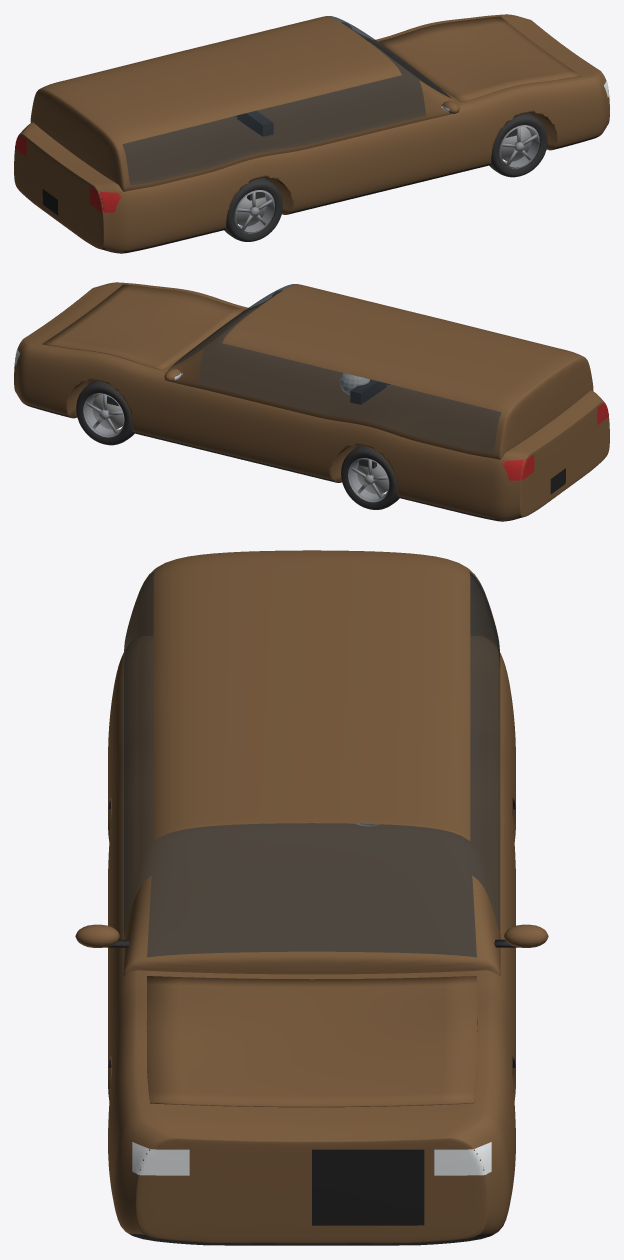
Rendered from derby_brannock_country_wagon.glb.
3 views of the same model, one above another, from view 1: azimuth 30°, elevation 25°; view 2: azimuth 150°, elevation 25°; view 3: azimuth 270°, elevation 25° (orthographic). The views are drawn at different scales.
Parts seen in each view (by area): view 1: cabin, body, bonnet, bumper_rear, bumper_front, wheel_fr_spin, wheel_rr_spin, interior; view 2: cabin, body, bonnet, bumper_rear, bumper_front, wheel_fl_spin, wheel_rl_spin, interior; view 3: cabin, body, bumper_front, bonnet, mirror_l, mirror_r.
Boxes of the visible parts, box(x1,y1,x2,y2) form: cabin: box(30, 16, 459, 191); body: box(122, 15, 588, 252); bonnet: box(379, 16, 581, 102); bumper_rear: box(14, 122, 131, 253); bumper_front: box(495, 14, 609, 141); wheel_fr_spin: box(489, 113, 547, 177); wheel_rr_spin: box(224, 177, 282, 241); interior: box(234, 110, 273, 136); cabin: box(164, 284, 593, 459); body: box(35, 283, 501, 520); bonnet: box(42, 284, 244, 370); bumper_rear: box(492, 390, 609, 521); bumper_front: box(14, 282, 128, 409); wheel_fl_spin: box(76, 381, 134, 445); wheel_rl_spin: box(341, 445, 399, 509); interior: box(339, 373, 389, 404); cabin: box(123, 550, 500, 976); body: box(108, 641, 515, 1193); bumper_front: box(111, 1100, 512, 1245); bonnet: box(146, 976, 477, 1107); mirror_l: box(494, 924, 548, 947); mirror_r: box(75, 924, 129, 947).
Bounding box in the file's own units: 5.76 × 1.45 × 2.32.
